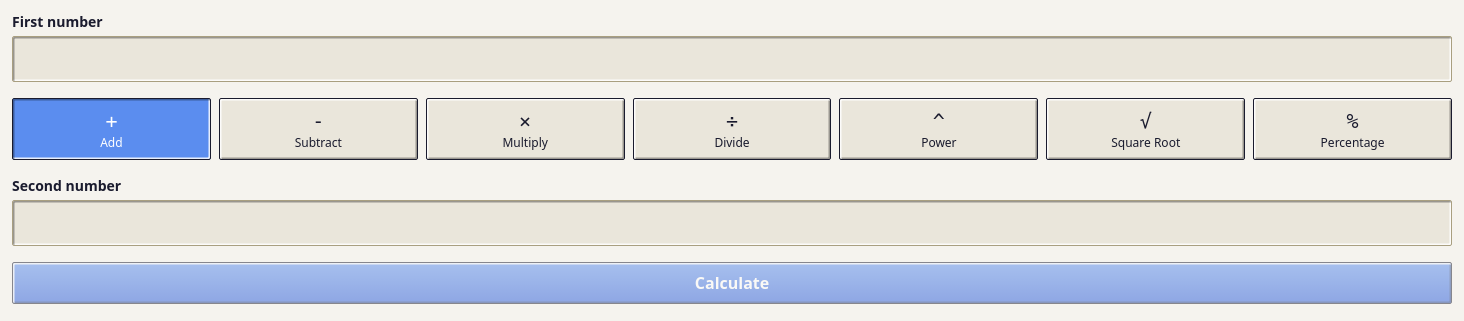
Test case: Calculator › operations with one number › hides the second number for the square root
Click the radio button labelled "Square Root": (1146, 129) [1046, 98, 1245, 160]
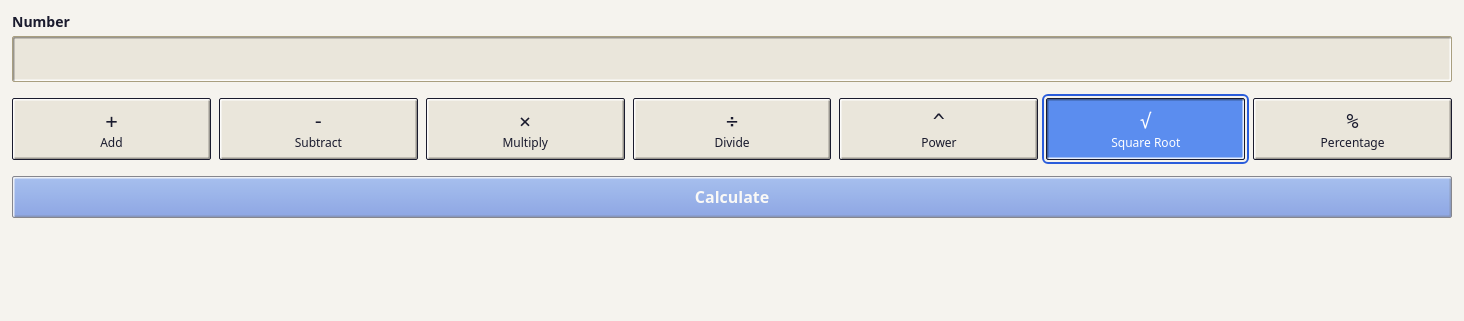
expect the field labelled "Number" is shown: met, box [12, 36, 1452, 82]
expect the label labelled "Second number" is gone: met
